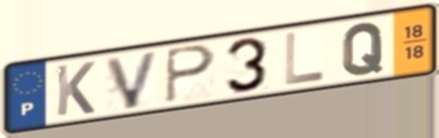3: (222, 34, 274, 96)
K: (53, 59, 97, 118)
L: (282, 30, 328, 88)
P: (164, 43, 219, 106)
Q: (340, 20, 387, 78)
V: (103, 48, 163, 112)
